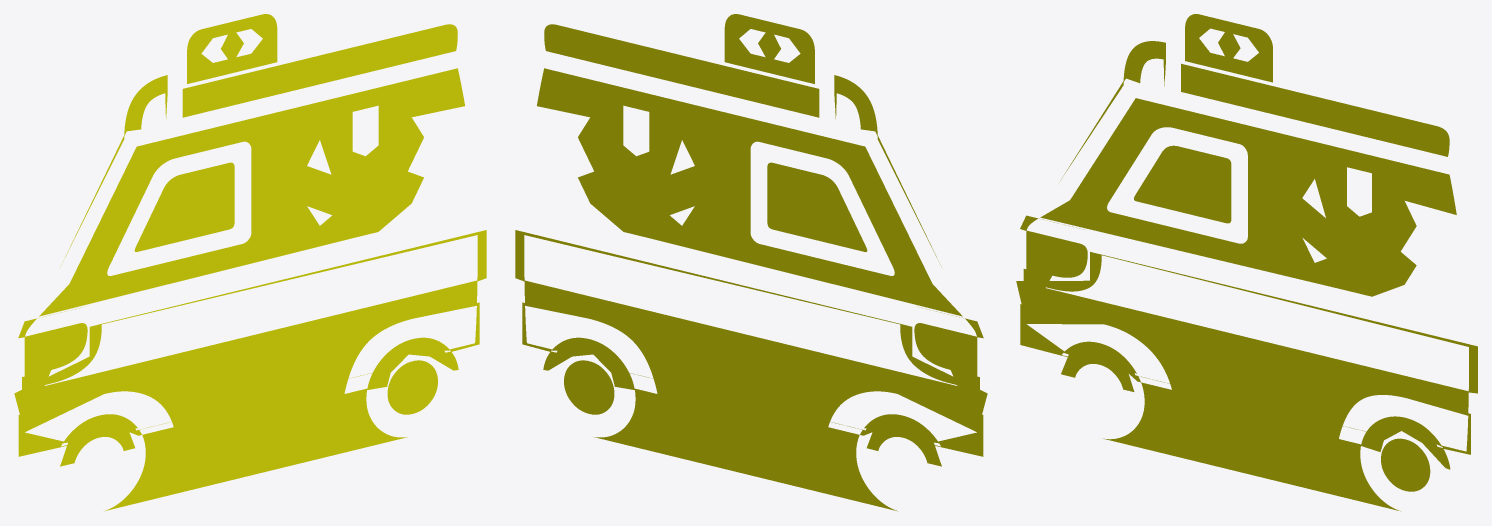
File: ambulance.glb
3 renders of one model, left to right at view 1: azimuth 30°, elevation 25°; view 2: azimuth 150°, elevation 25°; view 3: azimuth 330°, elevation 25°, orthographic. The views are drawn at different scales.
Parts seen in each view (by area): view 1: Text.992_992; view 2: Text.992_992; view 3: Text.992_992.
Part boxes in pixels (x1=…): Text.992_992: x1=14, y1=14, x2=486, y2=511; Text.992_992: x1=515, y1=14, x2=987, y2=511; Text.992_992: x1=1016, y1=14, x2=1477, y2=511.
Size of the model in its own units: 1.1 by 1.02 by 3.6e-06.
